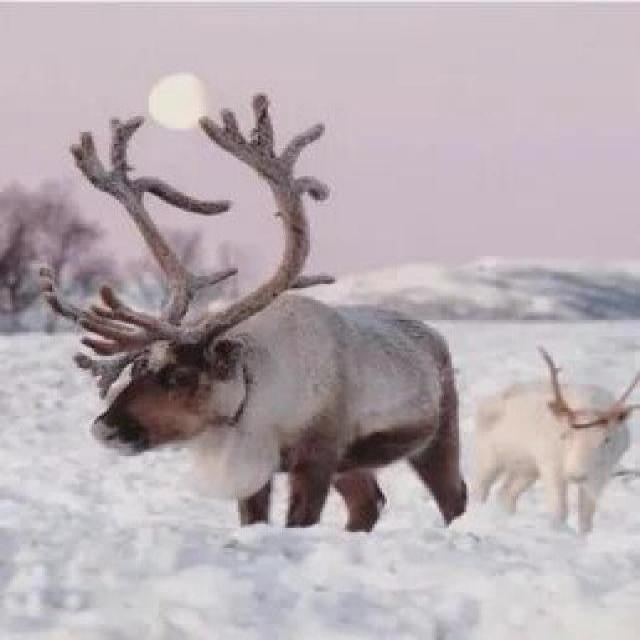deer: (7, 88, 563, 571)
